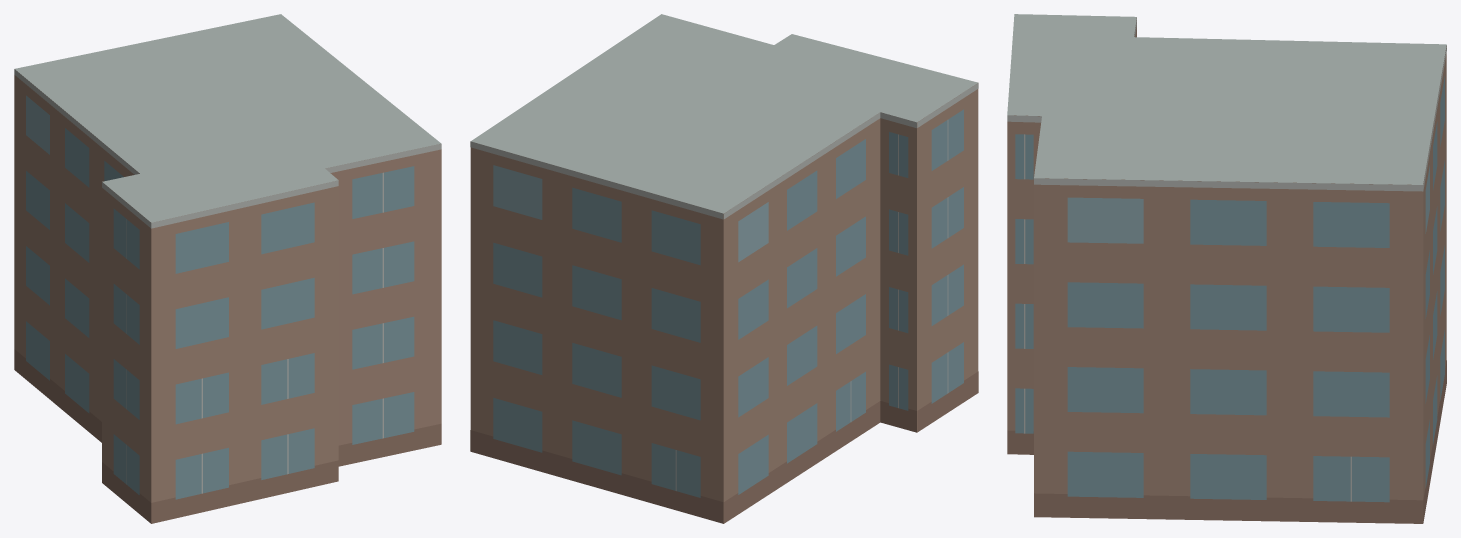
File: survey-upis-32979693.glb
3 renders of one model, left to right at view 1: azimuth 30°, elevation 25°; view 2: azimuth 150°, elevation 25°; view 3: azimuth 270°, elevation 25°, orthographic. The views are drawn at different scales.
Parts seen in each view (by area): view 1: survey-upis-32979693.tmp; view 2: survey-upis-32979693.tmp; view 3: survey-upis-32979693.tmp.
Part boxes in pixels (box(x1,y1,x2,y2)): survey-upis-32979693.tmp: box(14, 14, 441, 523); survey-upis-32979693.tmp: box(470, 14, 978, 523); survey-upis-32979693.tmp: box(1007, 14, 1446, 523).
Size of the model in its own units: 13.75 by 12.7 by 14.94.
